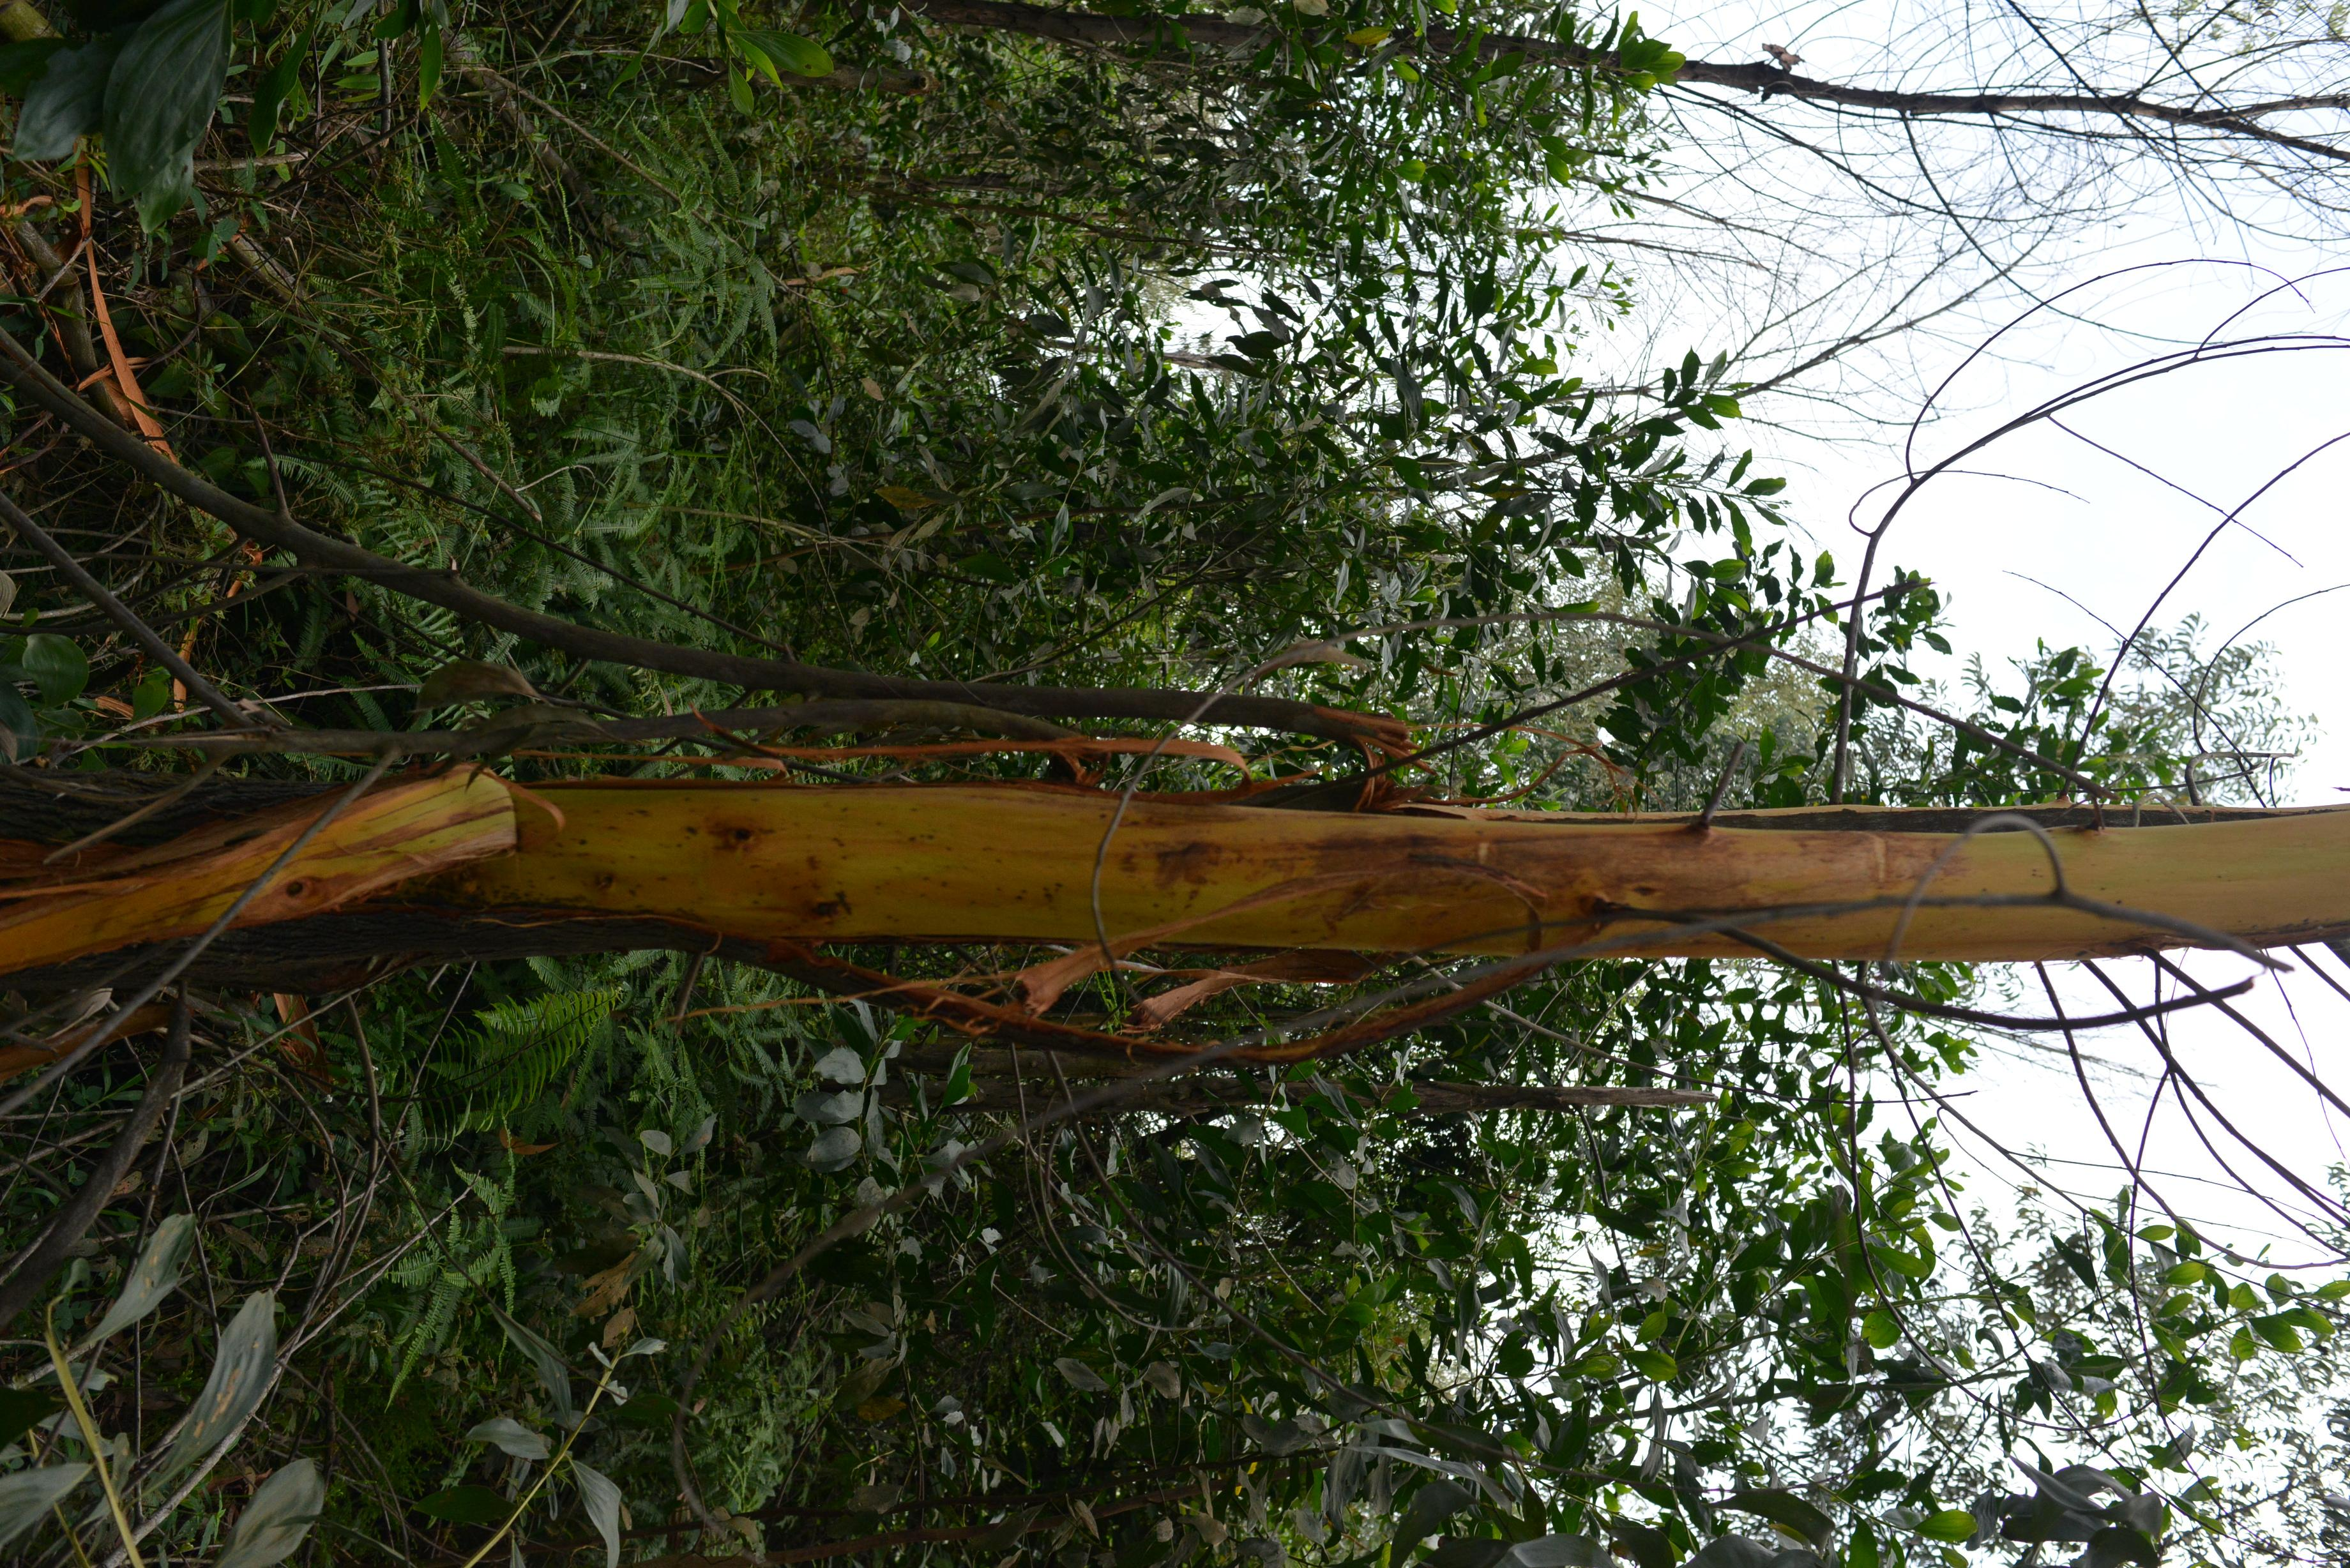Mammals Attack: (65, 770, 2350, 961)
